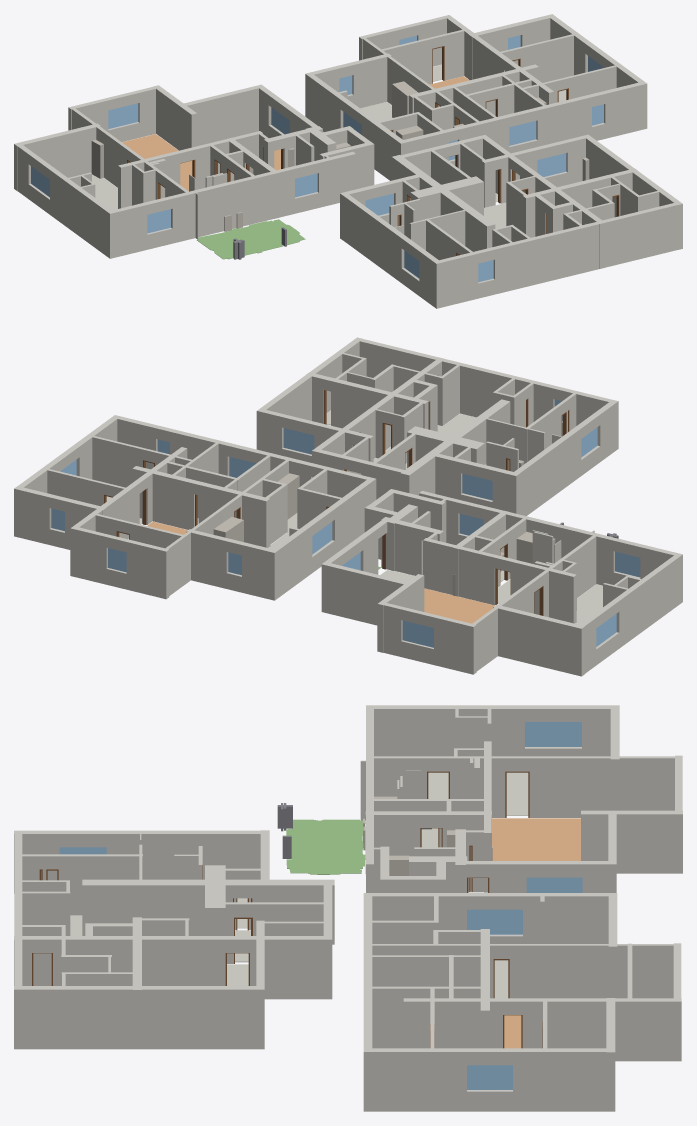
The picture shows the model from 3 angles, top to bottom: view 1: azimuth 30°, elevation 25°; view 2: azimuth 150°, elevation 25°; view 3: azimuth 270°, elevation 25°; orthographic projection. The views are drawn at different scales.
Parts seen in each view (by area): view 1: walls, floor_33_Outdoor, floor_0_Living_Room, furniture_1_closet, floor_4_Undefined, window_33, window_12, window_28, furniture_0_closet, window_9; view 2: walls, floor_0_Living_Room, floor_4_Undefined, window_33, window_12, window_23, furniture_1_closet, furniture_10_closet, furniture_11_closet, window_9; view 3: walls, floor_33_Outdoor, floor_0_Living_Room, floor_4_Undefined, window_3, window_5, window_2, window_0, floor_20_Undefined, railings, floor_3_Living_Room.
Boxes of the visible parts, <box> form: walls: <box>14,14,682,308</box>; floor_33_Outdoor: <box>197,219,305,259</box>; floor_0_Living_Room: <box>122,134,280,191</box>; furniture_1_closet: <box>392,81,418,117</box>; floor_4_Undefined: <box>92,174,117,210</box>; window_33: <box>108,103,138,128</box>; window_12: <box>537,153,566,176</box>; window_28: <box>509,121,536,145</box>; furniture_0_closet: <box>91,139,103,178</box>; window_9: <box>147,209,170,233</box>; walls: <box>14,337,682,676</box>; floor_0_Living_Room: <box>424,588,494,623</box>; floor_4_Undefined: <box>575,584,602,624</box>; window_33: <box>402,620,433,647</box>; window_12: <box>283,428,314,454</box>; window_23: <box>462,473,492,500</box>; furniture_1_closet: <box>213,517,243,541</box>; furniture_10_closet: <box>278,473,299,519</box>; furniture_11_closet: <box>516,531,555,563</box>; window_9: <box>615,551,640,577</box>; walls: <box>14,705,682,1111</box>; floor_33_Outdoor: <box>286,819,365,874</box>; floor_0_Living_Room: <box>492,818,580,860</box>; floor_4_Undefined: <box>428,772,528,815</box>; window_3: <box>525,722,581,746</box>; window_5: <box>467,909,522,934</box>; window_2: <box>467,1065,512,1089</box>; window_0: <box>526,877,582,892</box>; floor_20_Undefined: <box>70,916,248,985</box>; railings: <box>277,803,431,858</box>; floor_3_Living_Room: <box>504,1015,521,1048</box>.
Size of the model in its own units: 33.72 by 2.72 by 27.48.
